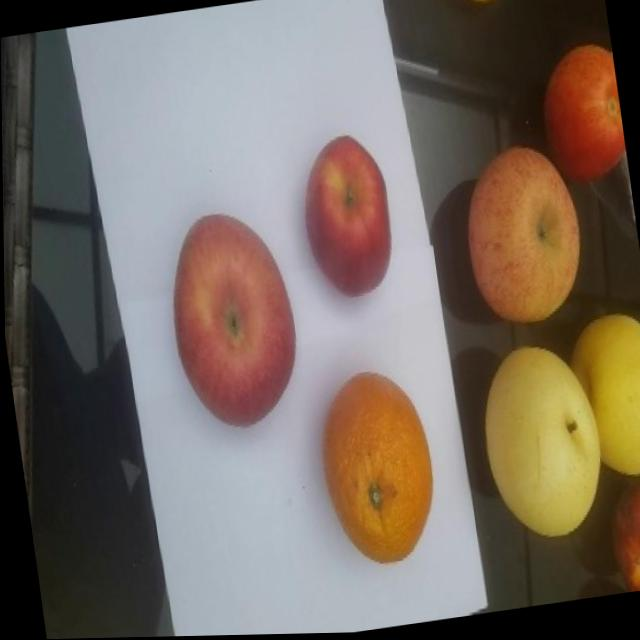Apple: (158, 203, 307, 436), (455, 140, 591, 332), (294, 130, 400, 304), (534, 43, 629, 191), (603, 481, 640, 595)
Orange: (310, 364, 444, 573)
